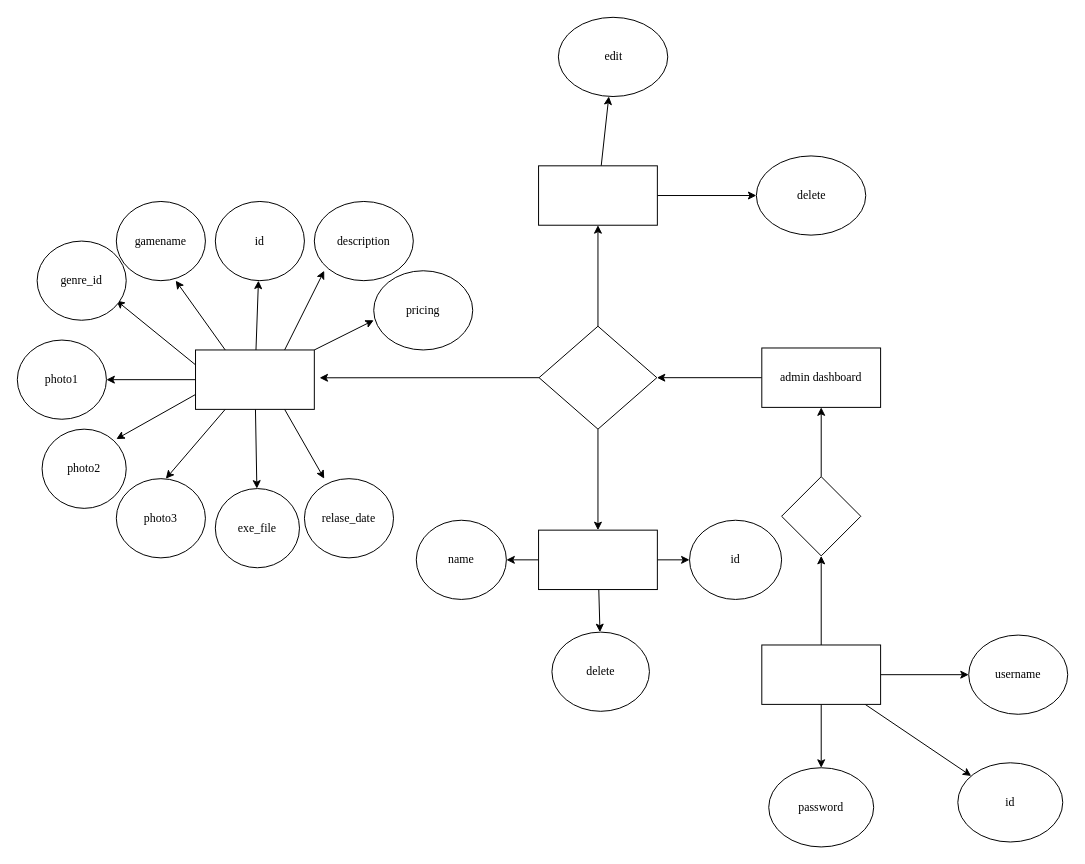
Image size: 1085x864. Some labels were removed from this diagram. The shapes that lost their labels are listed below. From the top down, each one's centre as x and y in pixels, then its label:
At pixel 597 195: "view_game".
At pixel 254 379: "add games".
At pixel 597 377: "handle".
At pixel 821 516: "manage".
At pixel 597 559: "game_cate".
At pixel 821 674: "admin_login".
